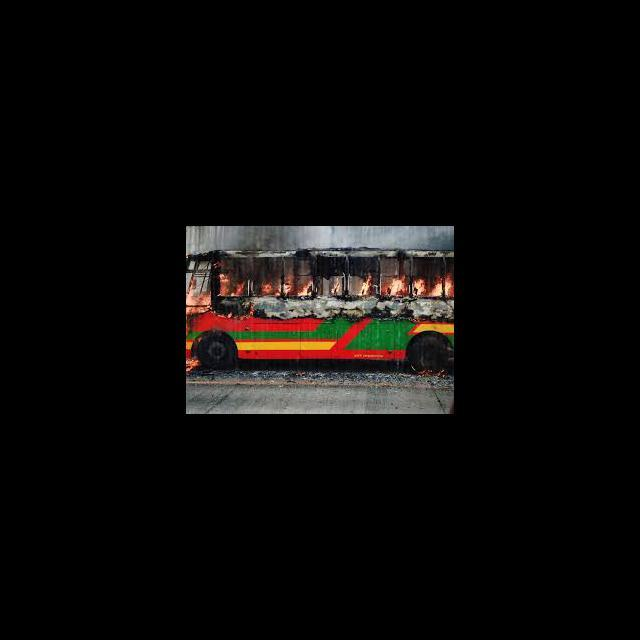Fire: (187, 284, 211, 314), (284, 271, 312, 295), (220, 274, 248, 296), (258, 270, 280, 296), (414, 276, 442, 296), (382, 276, 408, 295), (361, 274, 372, 296), (329, 277, 342, 295), (186, 358, 201, 372), (445, 274, 454, 296)
